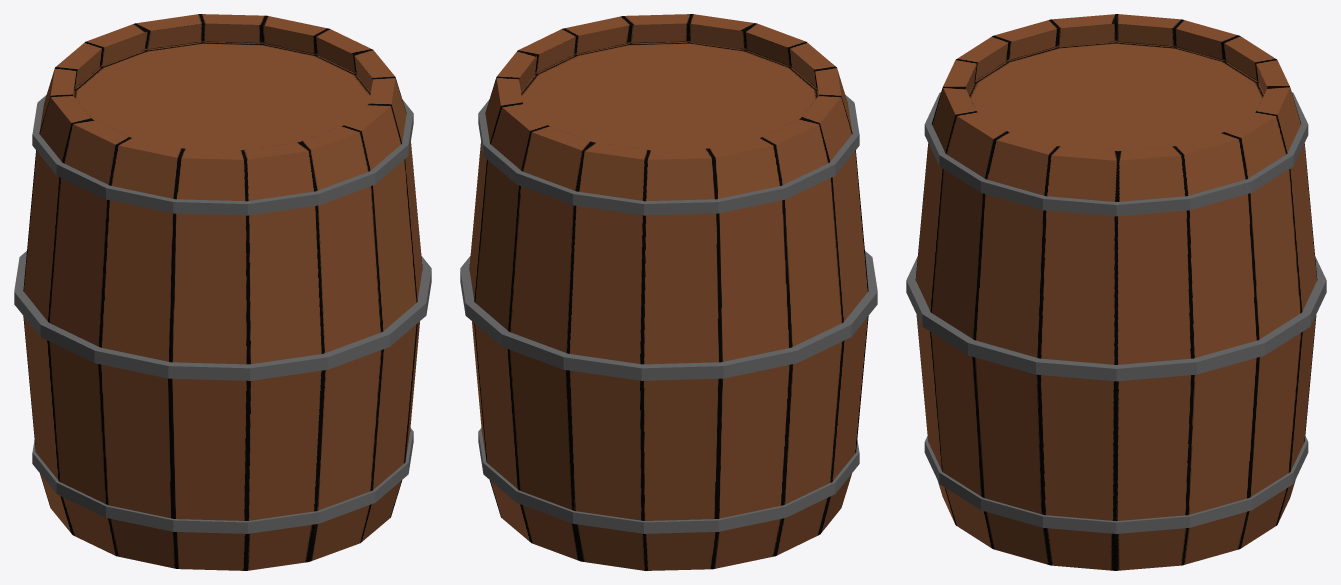
The model's file is Barrel.fbx.
3 renders of one model, left to right at view 1: azimuth 30°, elevation 25°; view 2: azimuth 150°, elevation 25°; view 3: azimuth 270°, elevation 25°, orthographic.
Visible parts, largest first — view 1: Barrel_LoPoly, Rings; view 2: Barrel_LoPoly, Rings; view 3: Barrel_LoPoly, Rings.
Part boxes in pixels (bbox=[...]): Barrel_LoPoly: bbox=[23, 14, 422, 570]; Rings: bbox=[14, 95, 431, 533]; Barrel_LoPoly: bbox=[469, 14, 868, 570]; Rings: bbox=[460, 95, 877, 533]; Barrel_LoPoly: bbox=[915, 14, 1317, 570]; Rings: bbox=[906, 92, 1326, 533].
Size of the model in its own units: 241 by 260 by 241.
